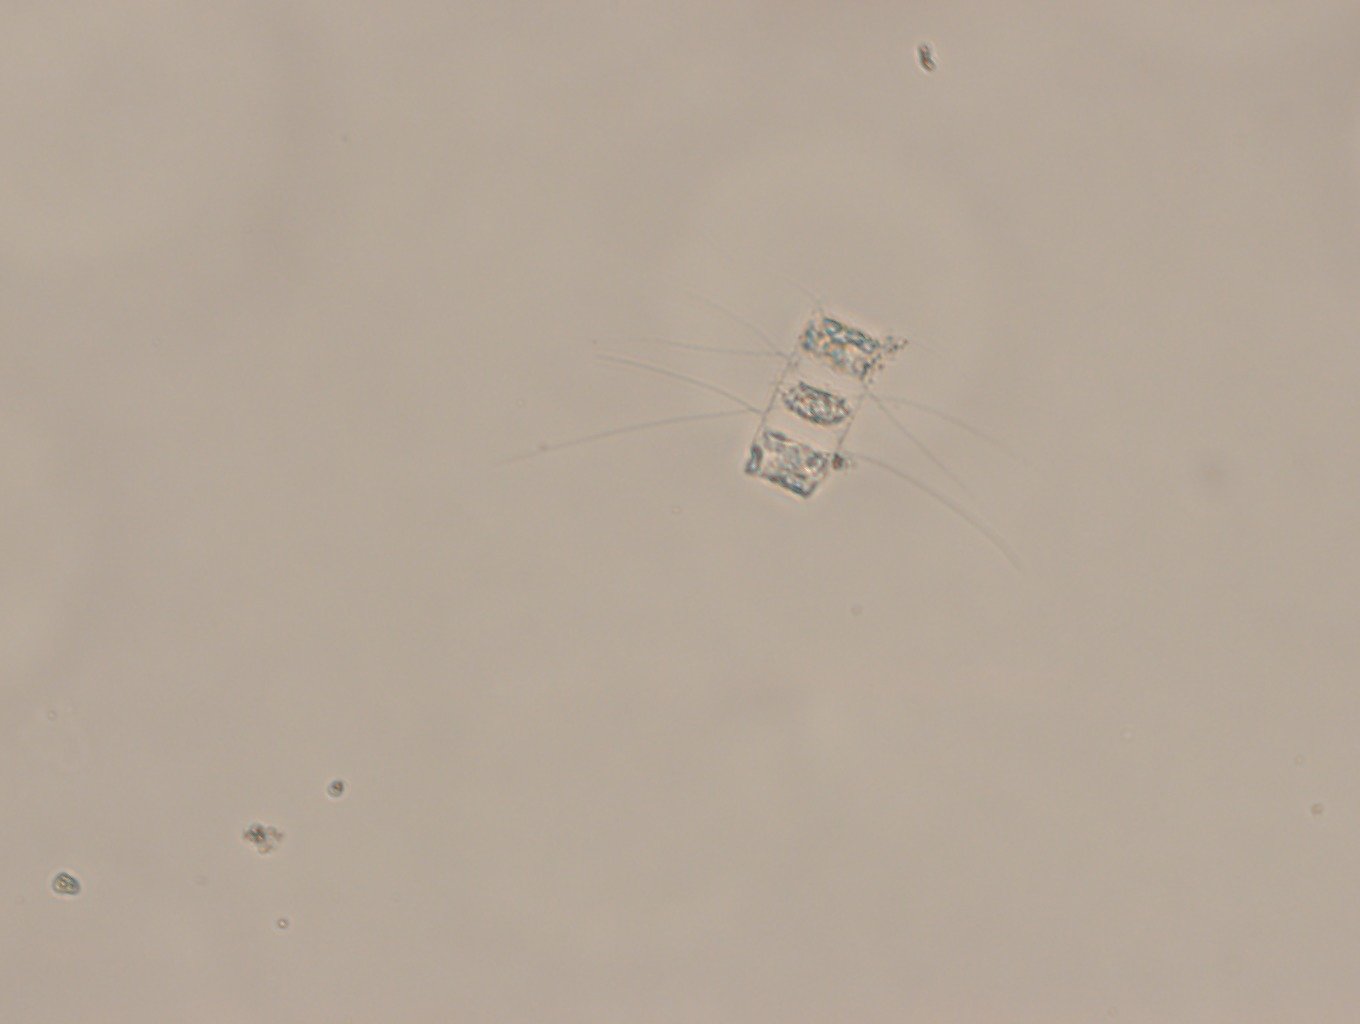chaetoceros: (502, 278, 1030, 570)
